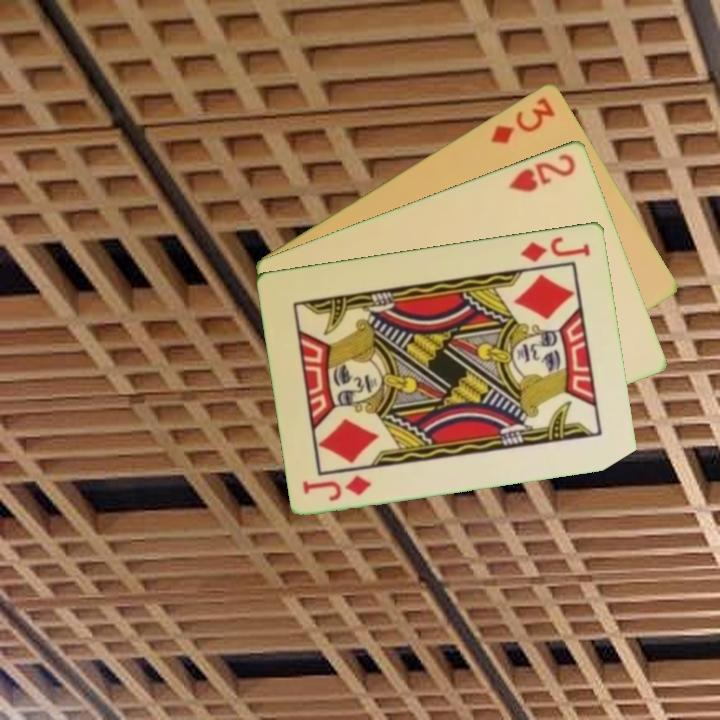2h: (505, 149, 579, 195)
3d: (487, 93, 558, 147)
Jd: (518, 232, 594, 265), (299, 471, 375, 503)
